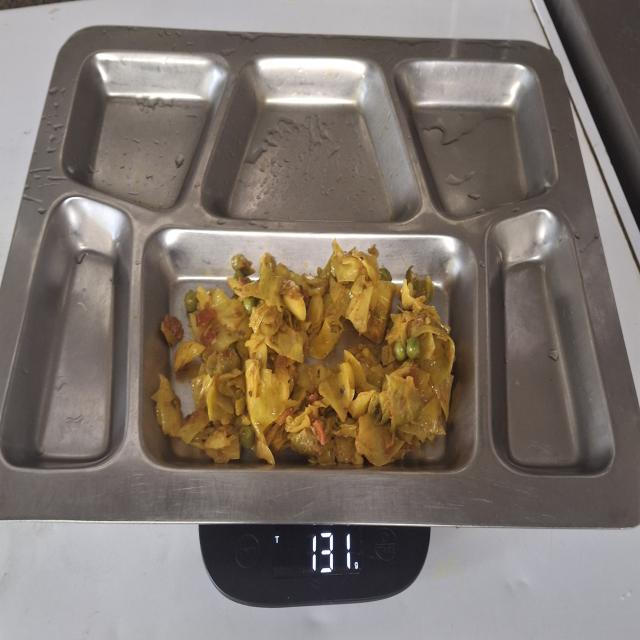Cabbage Matar: (146, 233, 457, 471)
